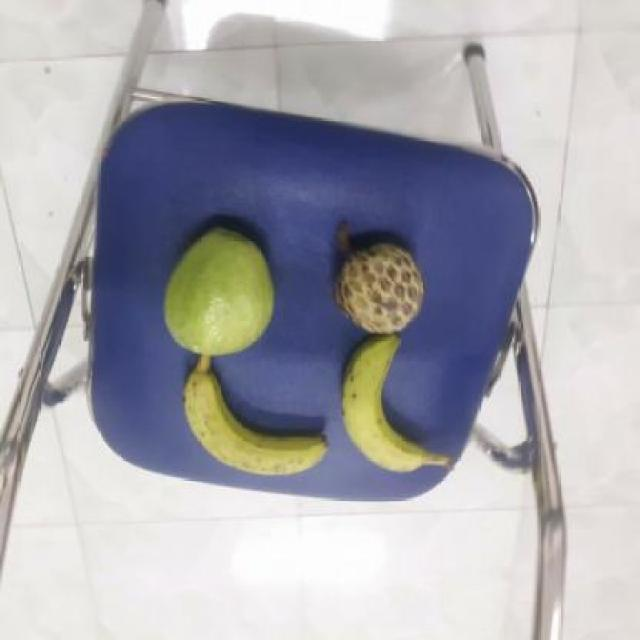banana: (178, 360, 327, 474), (334, 333, 438, 472)
guava: (156, 226, 273, 357)
sugar apple: (330, 240, 424, 334)
